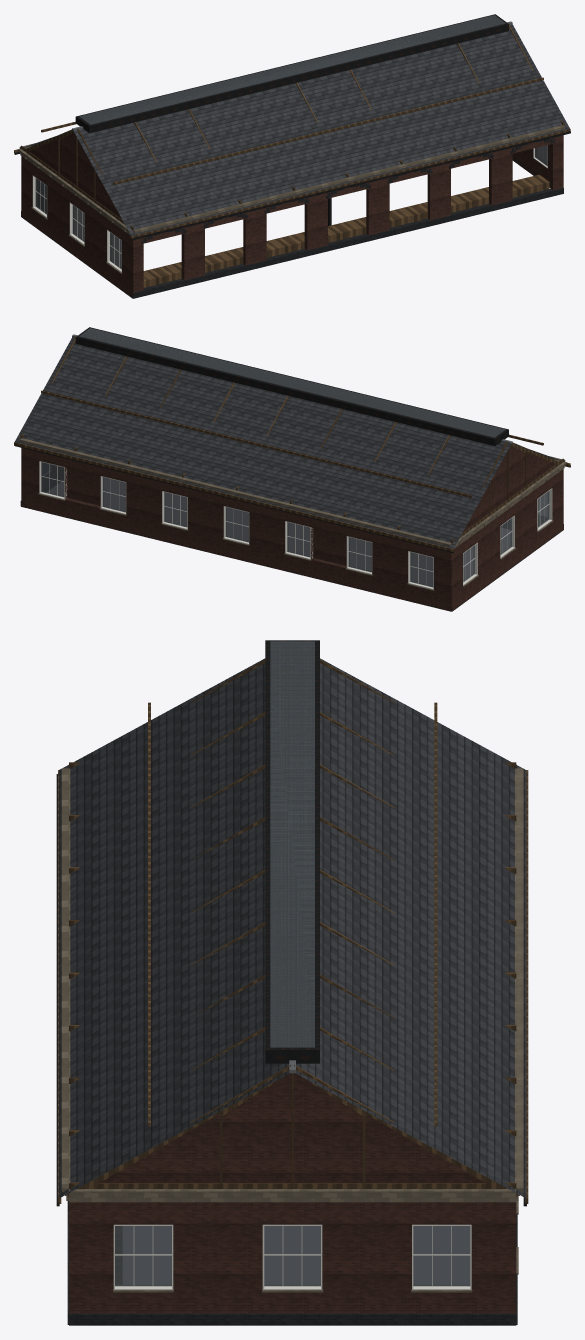
The model's file is B_paintshop.glb.
3 views of the same model, one above another, from view 1: azimuth 30°, elevation 25°; view 2: azimuth 150°, elevation 25°; view 3: azimuth 270°, elevation 25° (orthographic). The views are drawn at different scales.
Parts seen in each view (by area): view 1: B_paintshop; view 2: B_paintshop; view 3: B_paintshop.
Part boxes in pixels (bbox=[...]): B_paintshop: bbox=[14, 14, 570, 298]; B_paintshop: bbox=[14, 327, 570, 611]; B_paintshop: bbox=[56, 640, 528, 1325].
Size of the model in its own units: 40.8 by 12.02 by 18.99.
Materials: 12 (8 with a texture image).
